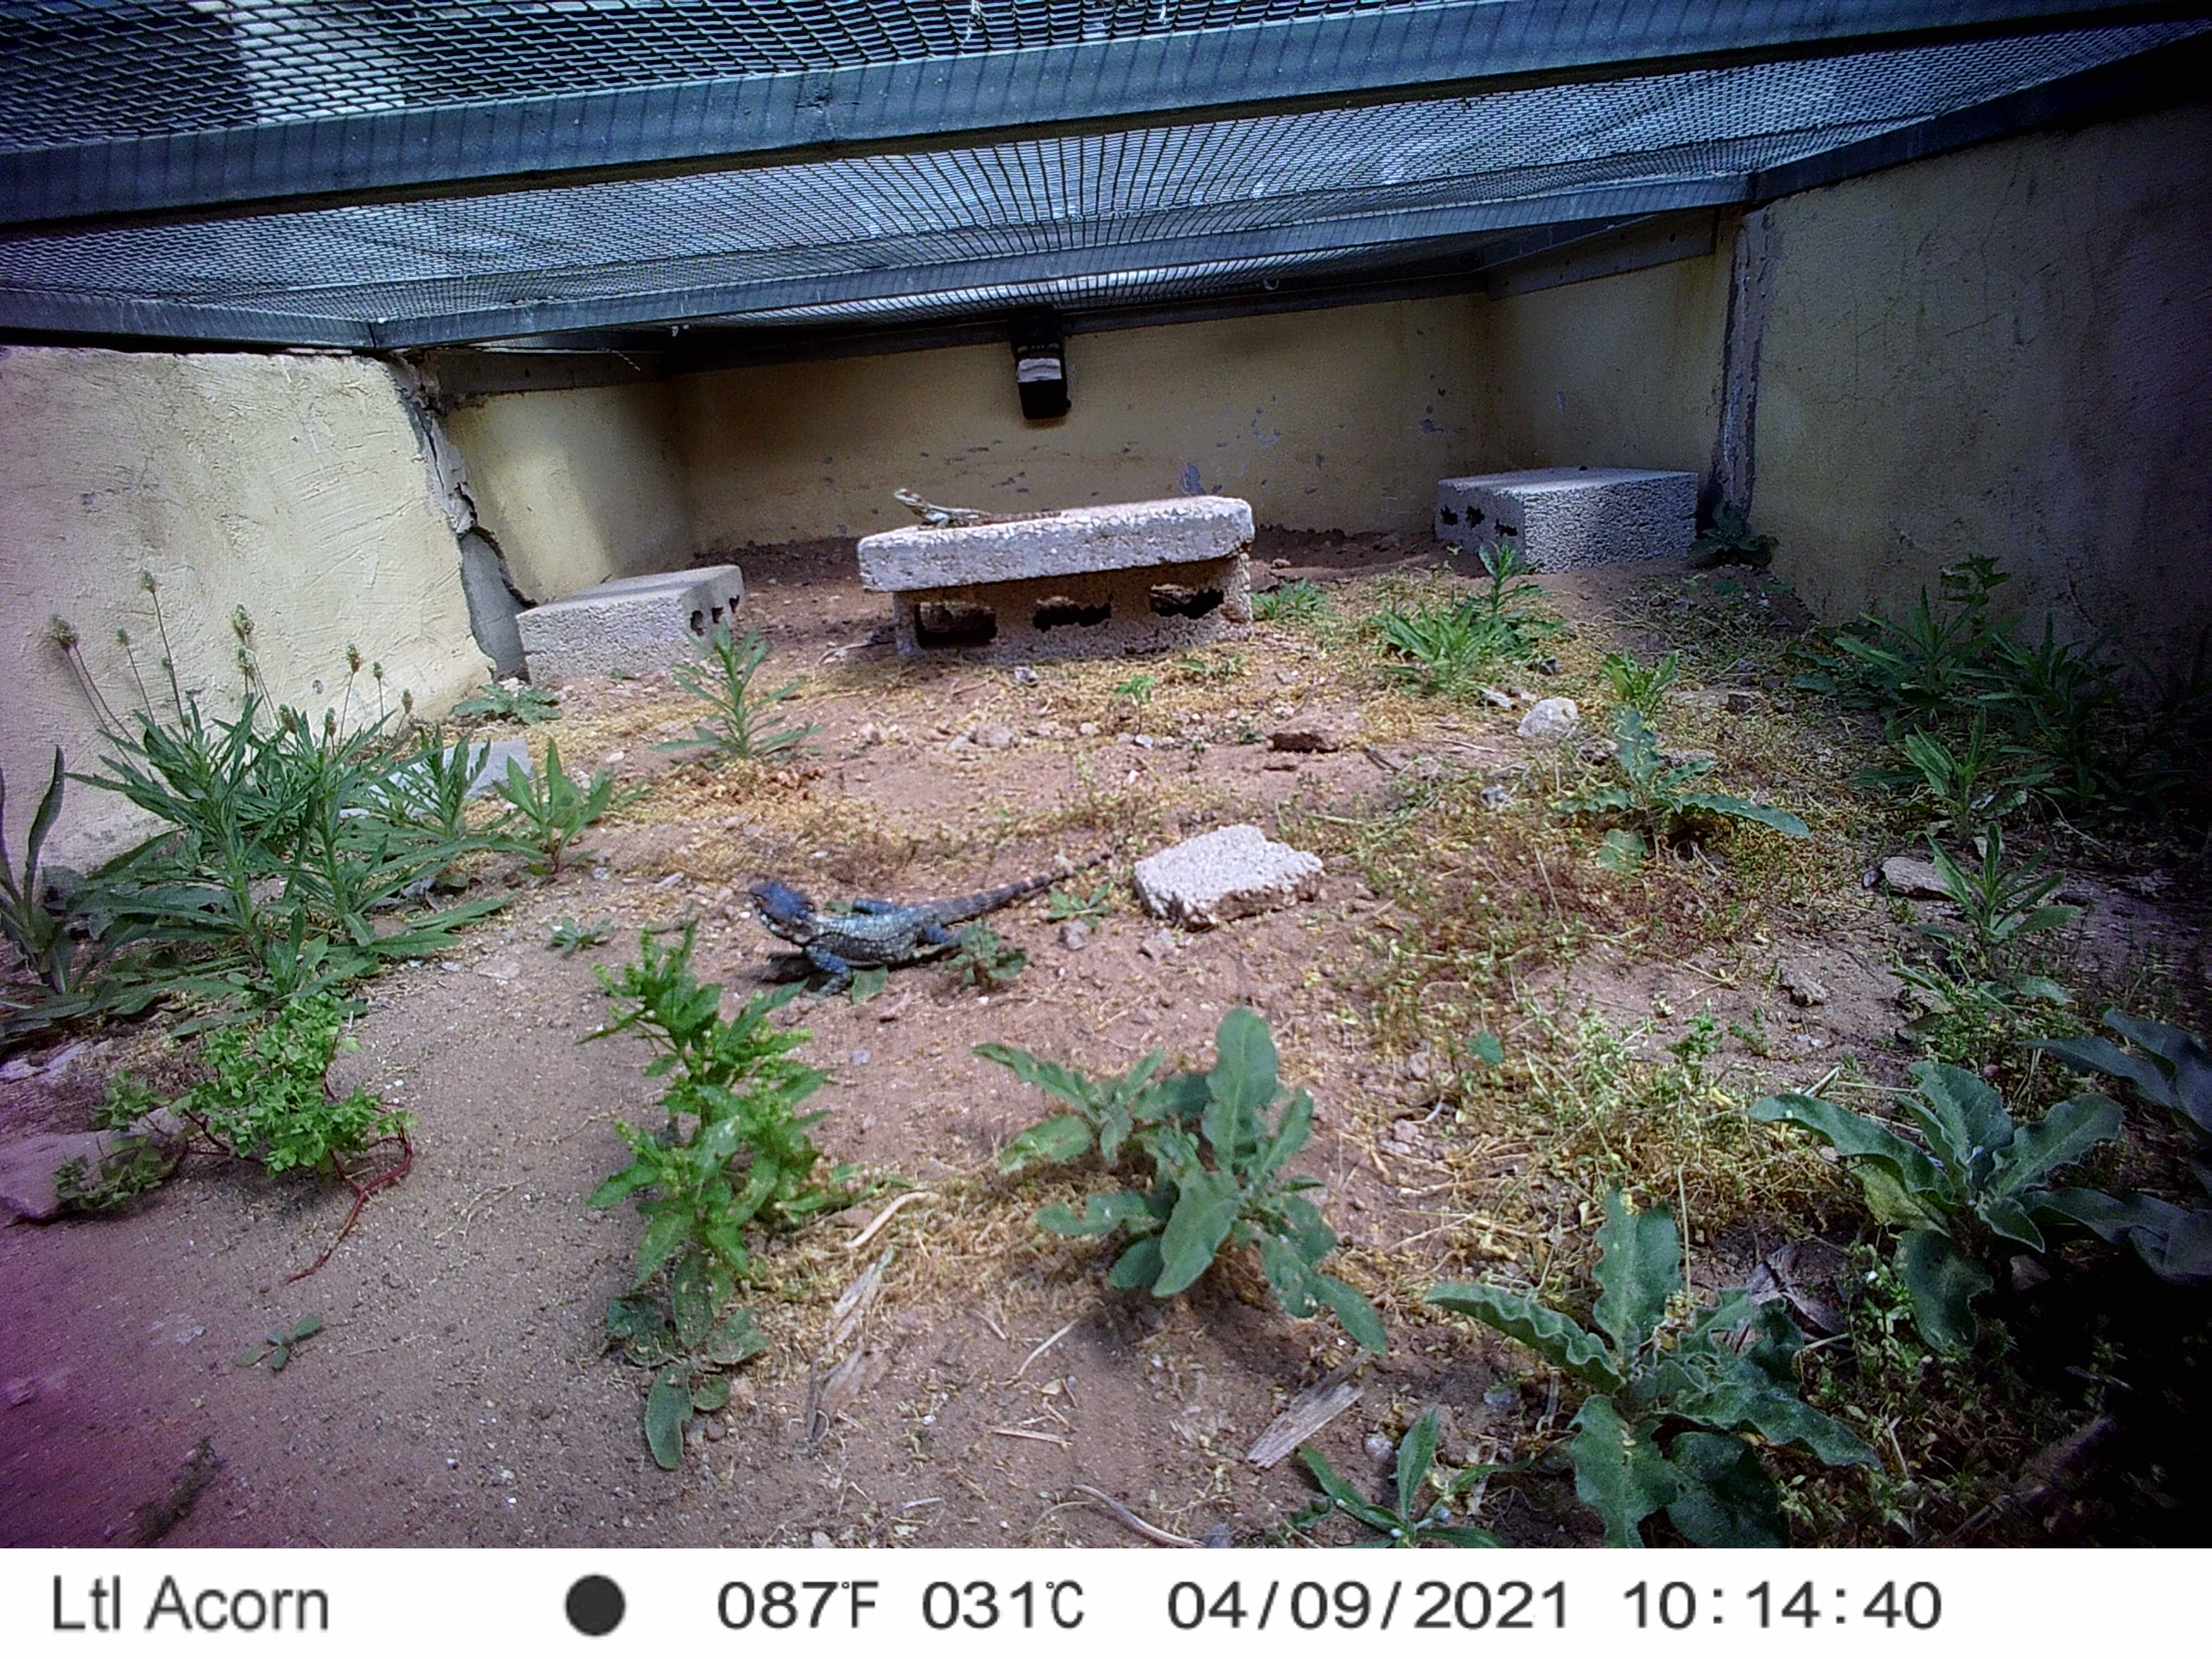lizard: (752, 803, 1148, 1004), (890, 481, 1071, 530)
